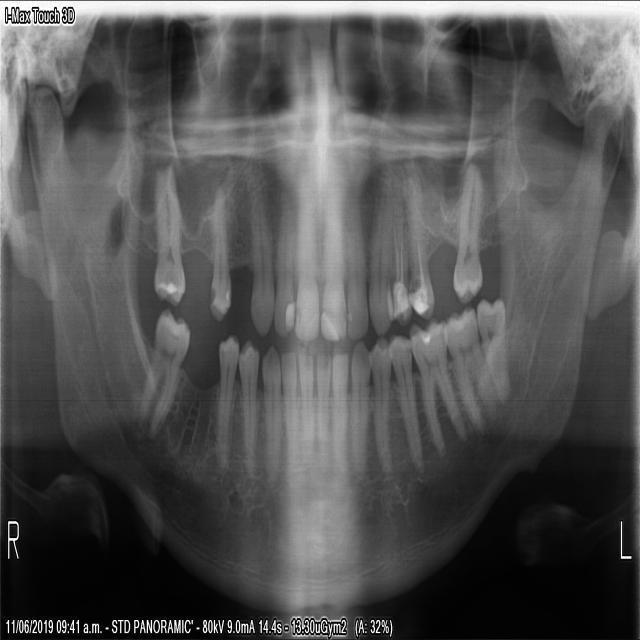LCD: (349, 335, 369, 466)
LCU: (367, 179, 392, 334)
LID: (329, 345, 348, 469), (314, 345, 330, 462)
LIU: (341, 177, 368, 342), (318, 188, 345, 342)
LMD: (406, 315, 470, 463), (438, 303, 500, 439), (475, 291, 511, 411)
LMU: (450, 169, 483, 305)
LPMD: (389, 330, 424, 473), (366, 330, 392, 470)
LPMU: (401, 179, 435, 325), (386, 181, 412, 326)
RCD: (259, 335, 283, 461)
RCU: (243, 193, 274, 337)
RID: (290, 193, 319, 344), (273, 203, 295, 338), (278, 342, 301, 449), (294, 342, 316, 446)
RMD: (132, 298, 195, 442)
RMU: (148, 171, 186, 307)
RPMD: (215, 325, 239, 469), (237, 331, 260, 454)
RPMU: (208, 186, 233, 320)
